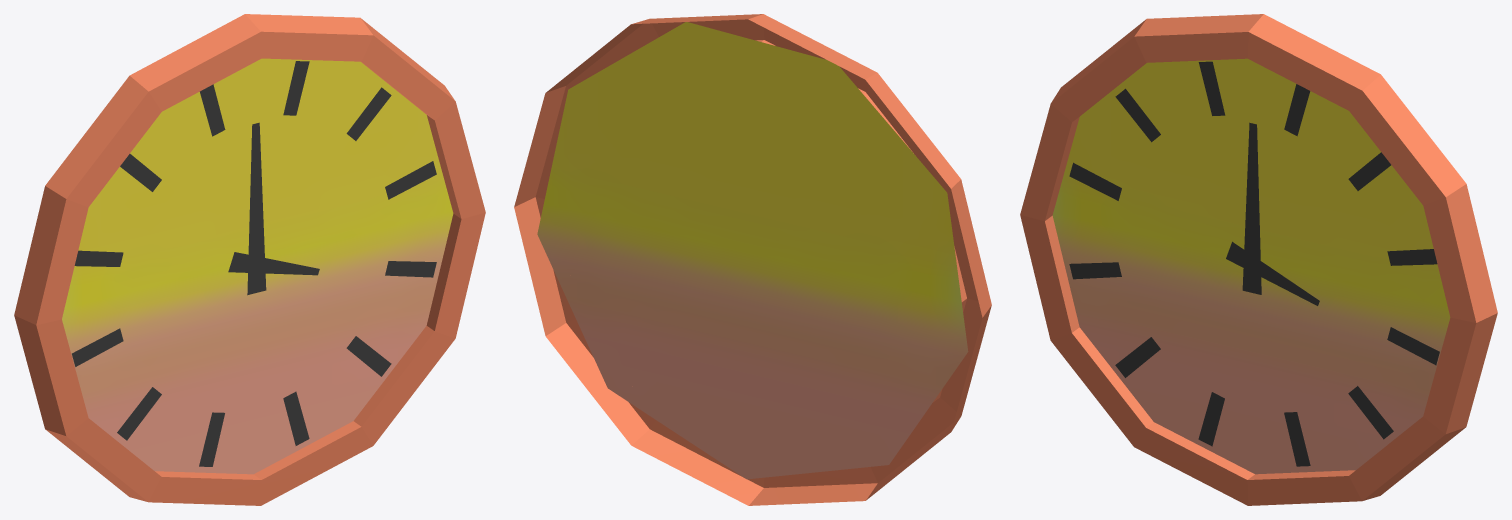
File: Clock1.fbx
The picture shows the model from 3 angles, left to right: view 1: azimuth 30°, elevation 25°; view 2: azimuth 150°, elevation 25°; view 3: azimuth 330°, elevation 25°; orthographic projection.
Visible parts, largest first — view 1: Clock1; view 2: Clock1; view 3: Clock1.
Boxes of the visible parts, box(x1,y1,x2,y2) form: Clock1: box(14, 14, 485, 505); Clock1: box(514, 14, 991, 505); Clock1: box(1020, 14, 1497, 505).
Bounding box in the file's own units: 24.94 × 24.94 × 1.82.
